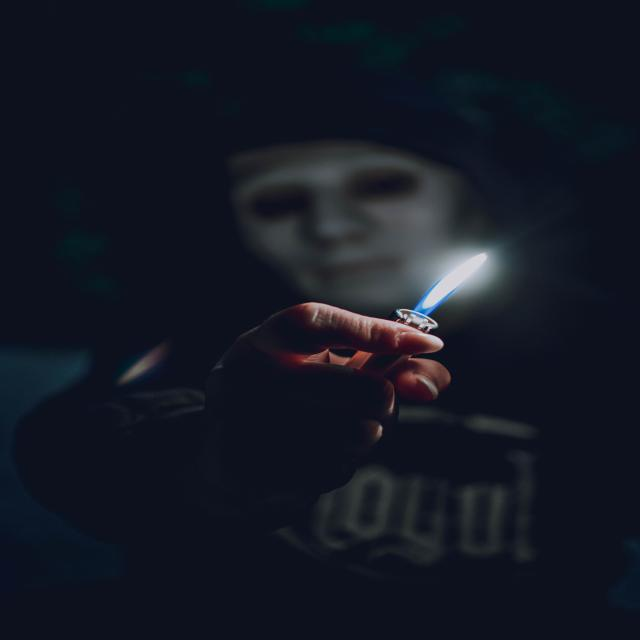fire: (422, 240, 483, 317)
